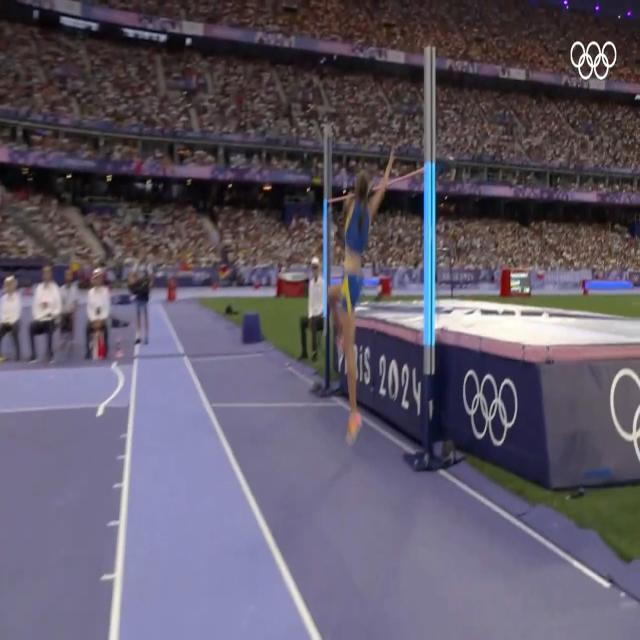jump: (326, 144, 396, 447)
